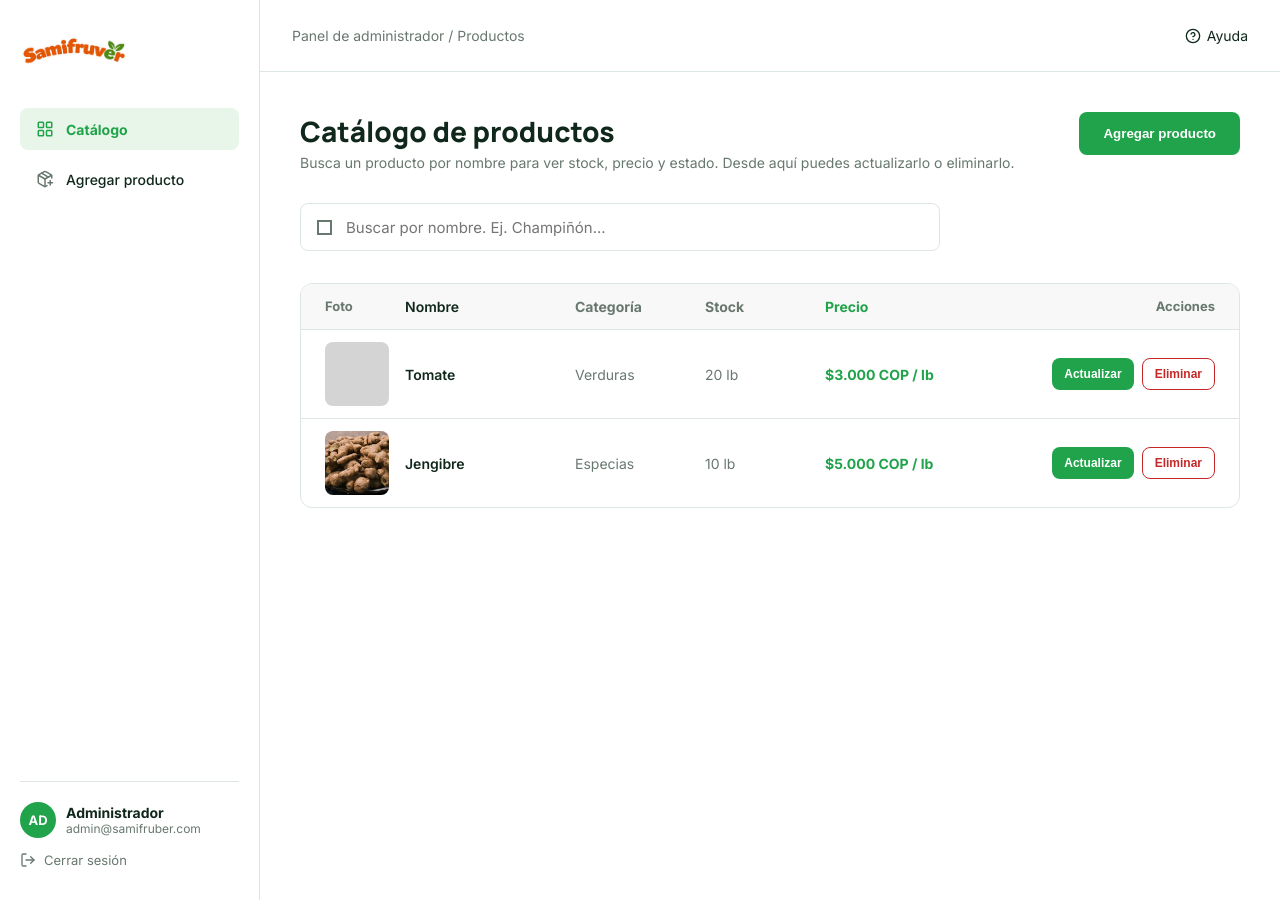
Test case: Consultar productos (E1-HU3) › E1-HU3 ESC2: búsqueda encontrada (sin importar mayúsculas)
Expected: the text "Tomate" is shown, [405,366,455,382]
Type "TOMA" into the field with placeholder "Buscar por nombre. Ej. Champiñón..." at (634, 227), box [344,216,923,238]
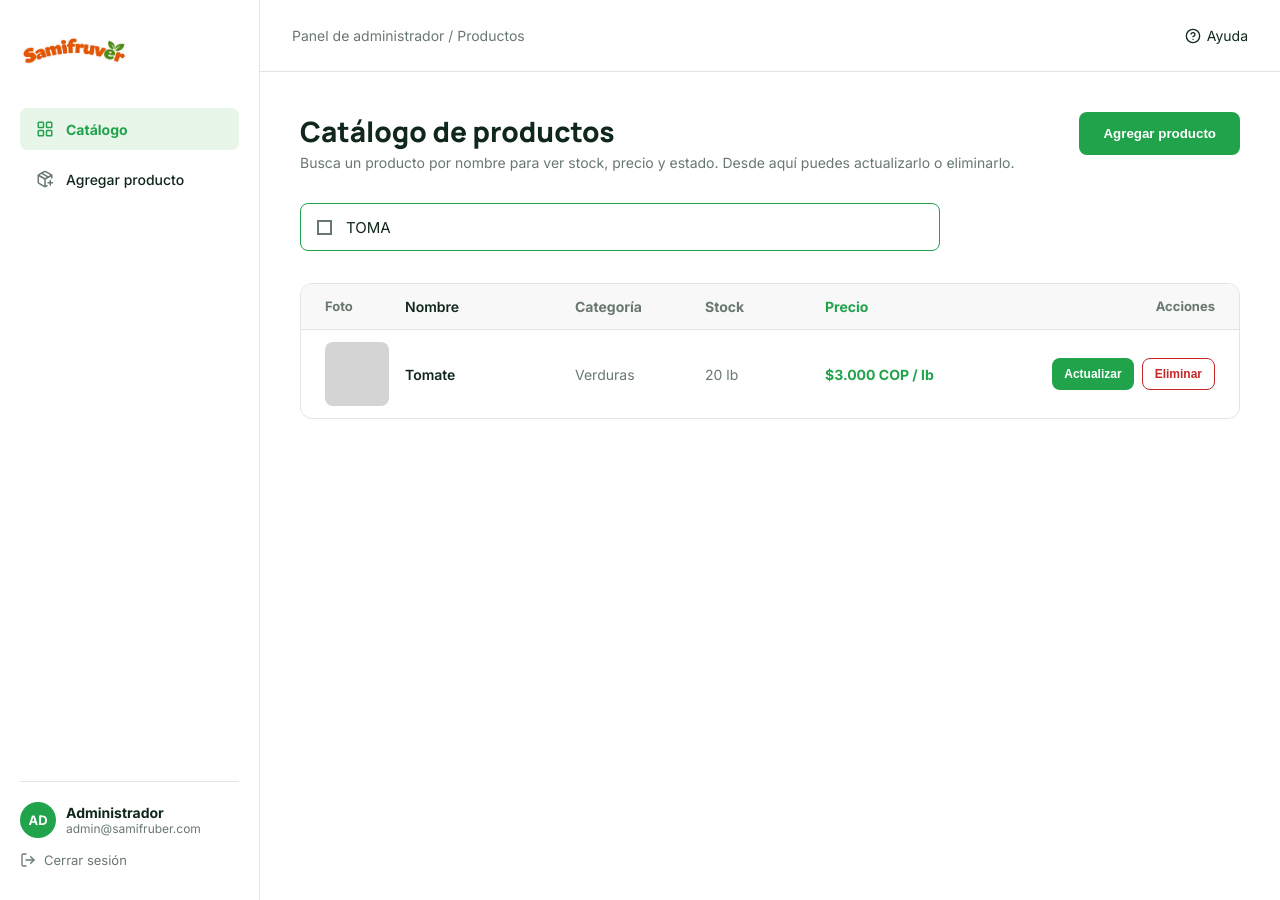
Expected: the text "Tomate" is shown, [405,366,455,382]
Expected: the text "Jengibre" is gone
